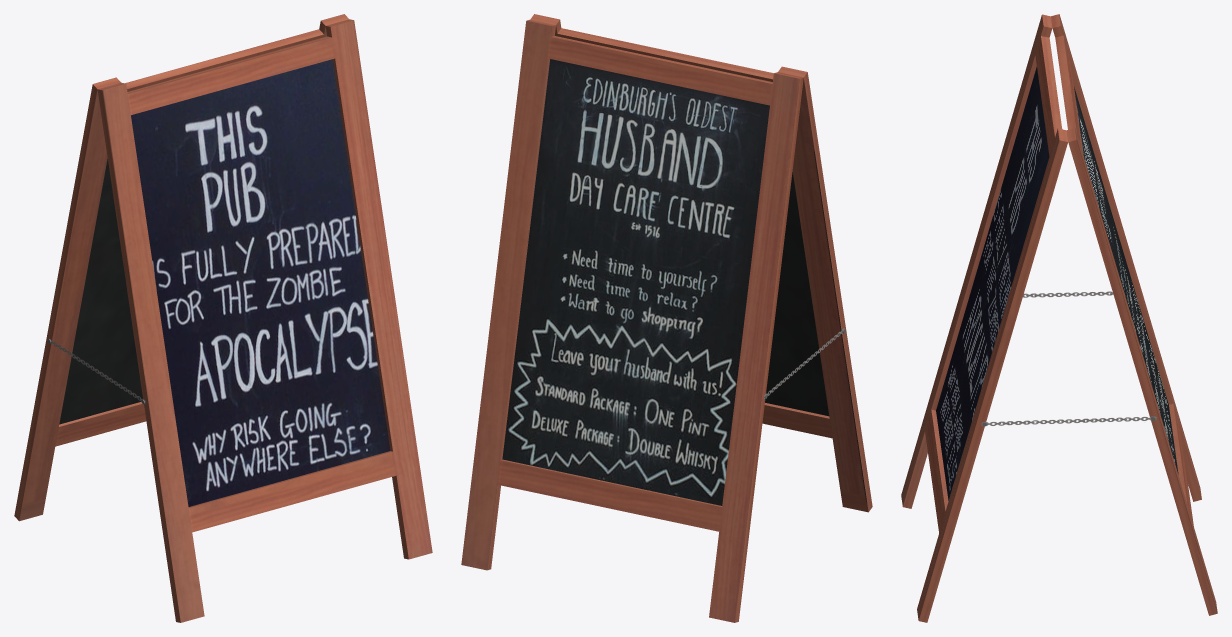
Rendered from sign29.glb.
3 views of the same model, side by side, from view 1: azimuth 30°, elevation 25°; view 2: azimuth 150°, elevation 25°; view 3: azimuth 270°, elevation 25° (orthographic). The views are drawn at different scales.
Visible parts, largest first — view 1: Zombie_DaycareLP1_Zombie_DayCare_T_0, Zombie_DaycareLP1_Naked_Hipsters_T_0; view 2: Zombie_DaycareLP1_Zombie_DayCare_T_0, Zombie_DaycareLP1_Naked_Hipsters_T_0; view 3: Zombie_DaycareLP1_Naked_Hipsters_T_0, Zombie_DaycareLP1_Zombie_DayCare_T_0, Zombie_DaycareLP1_Chain_0.
Part boxes in pixels (left/top/right/bottom): Zombie_DaycareLP1_Zombie_DayCare_T_0: left=131, top=59, right=390, bottom=506; Zombie_DaycareLP1_Naked_Hipsters_T_0: left=14, top=14, right=432, bottom=622; Zombie_DaycareLP1_Zombie_DayCare_T_0: left=502, top=59, right=769, bottom=505; Zombie_DaycareLP1_Naked_Hipsters_T_0: left=461, top=14, right=872, bottom=622; Zombie_DaycareLP1_Naked_Hipsters_T_0: left=901, top=14, right=1217, bottom=622; Zombie_DaycareLP1_Zombie_DayCare_T_0: left=936, top=66, right=1178, bottom=500; Zombie_DaycareLP1_Chain_0: left=981, top=291, right=1156, bottom=425.
Bounding box in the file's own units: 0.7169 × 1.2 × 0.7198.
Materials: 3 (3 with a texture image).
